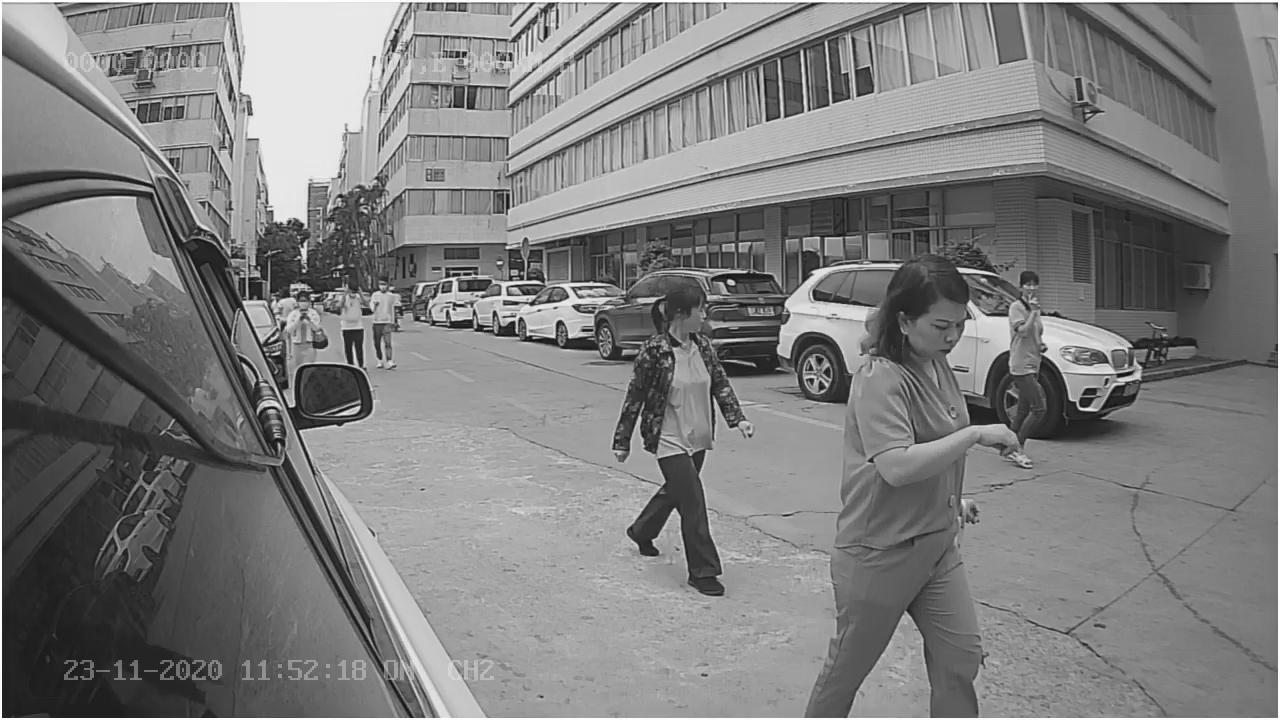person: (834, 260, 999, 712), (624, 279, 748, 599)
